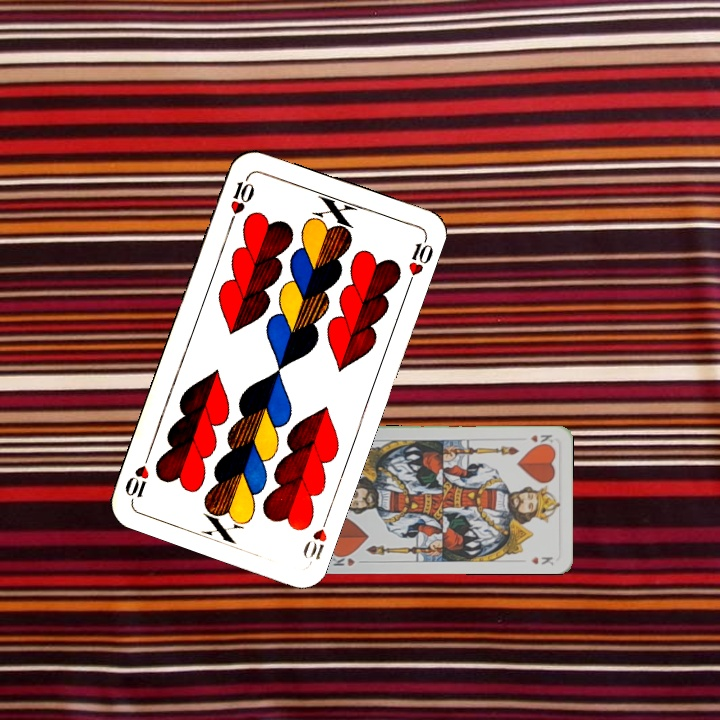H10: (298, 508, 333, 563), (224, 171, 257, 229)
HK: (327, 550, 368, 569), (526, 431, 555, 448)
